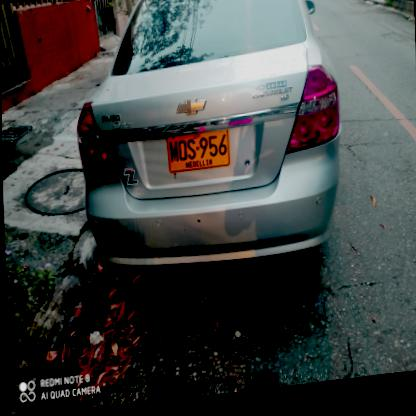placa: (163, 128, 232, 181)
